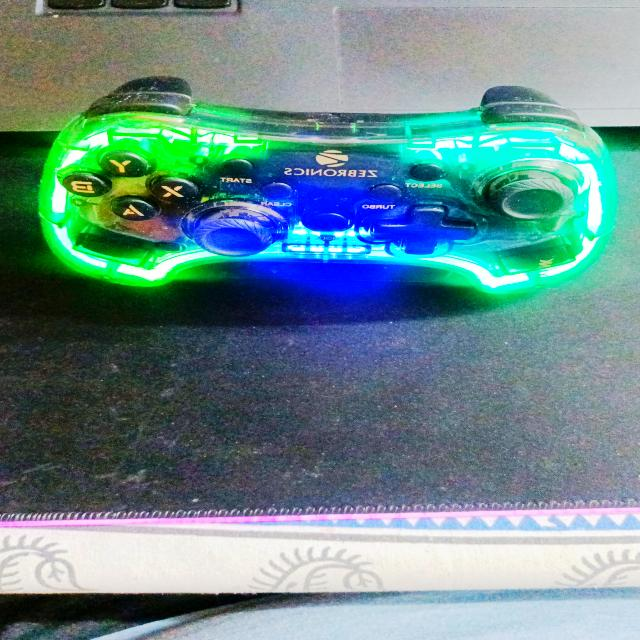gamepad: (36, 75, 620, 296)
